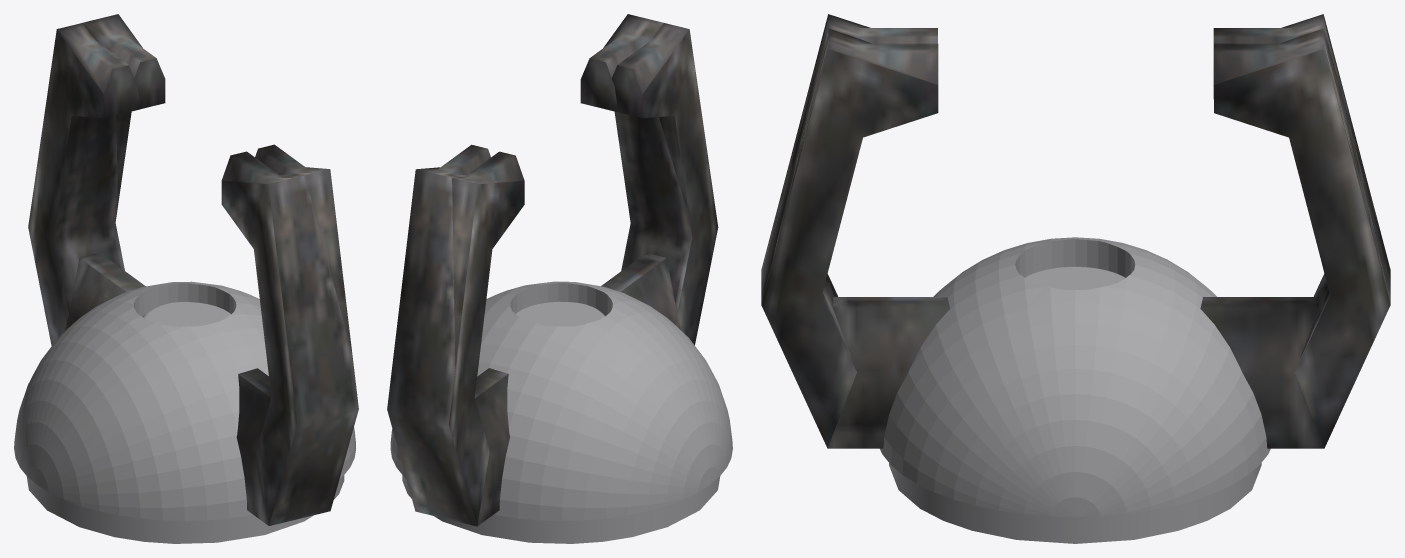
File: Donenmec.fbx
3 renders of one model, left to right at view 1: azimuth 30°, elevation 25°; view 2: azimuth 150°, elevation 25°; view 3: azimuth 270°, elevation 25°, orthographic. The views are drawn at different scales.
Parts seen in each view (by area): view 1: Zd Arkwelder, Zd White, Zd Black; view 2: Zd Arkwelder, Zd White, Zd Black; view 3: Zd Arkwelder, Zd White, Zd Black.
Boxes of the visible parts, x1,y1,x2,y2 form: Zd Arkwelder: [28, 14, 358, 525]; Zd White: [14, 281, 355, 520]; Zd Black: [26, 475, 344, 543]; Zd Arkwelder: [387, 14, 718, 526]; Zd White: [390, 281, 732, 520]; Zd Black: [402, 475, 720, 543]; Zd Arkwelder: [761, 14, 1390, 448]; Zd White: [880, 237, 1270, 516]; Zd Black: [889, 463, 1261, 543].
Bounding box in the file's own units: 1629 × 1973 × 2565.
